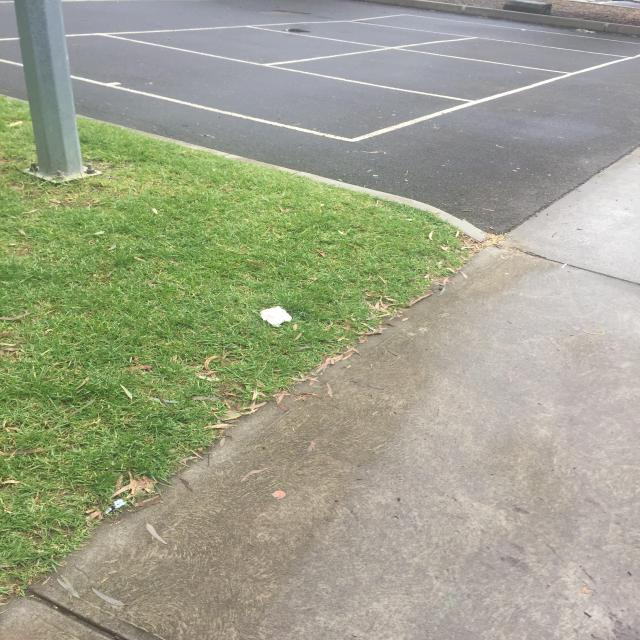litter: (260, 306, 293, 327)
